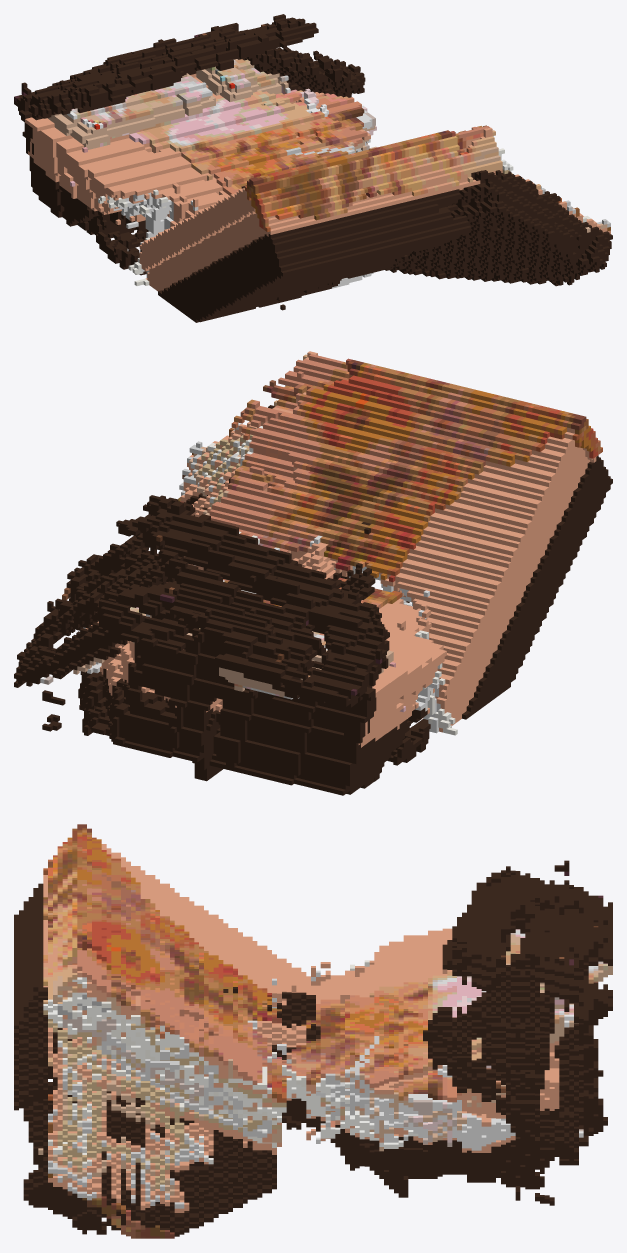
Rendered from beda2.vox.obj.
The picture shows the model from 3 angles, top to bottom: view 1: azimuth 30°, elevation 25°; view 2: azimuth 150°, elevation 25°; view 3: azimuth 270°, elevation 25°; orthographic projection. The views are drawn at different scales.
Bounding box in the file's own units: 10.7 × 5.1 × 12.3.
1 material, 1 textured.
